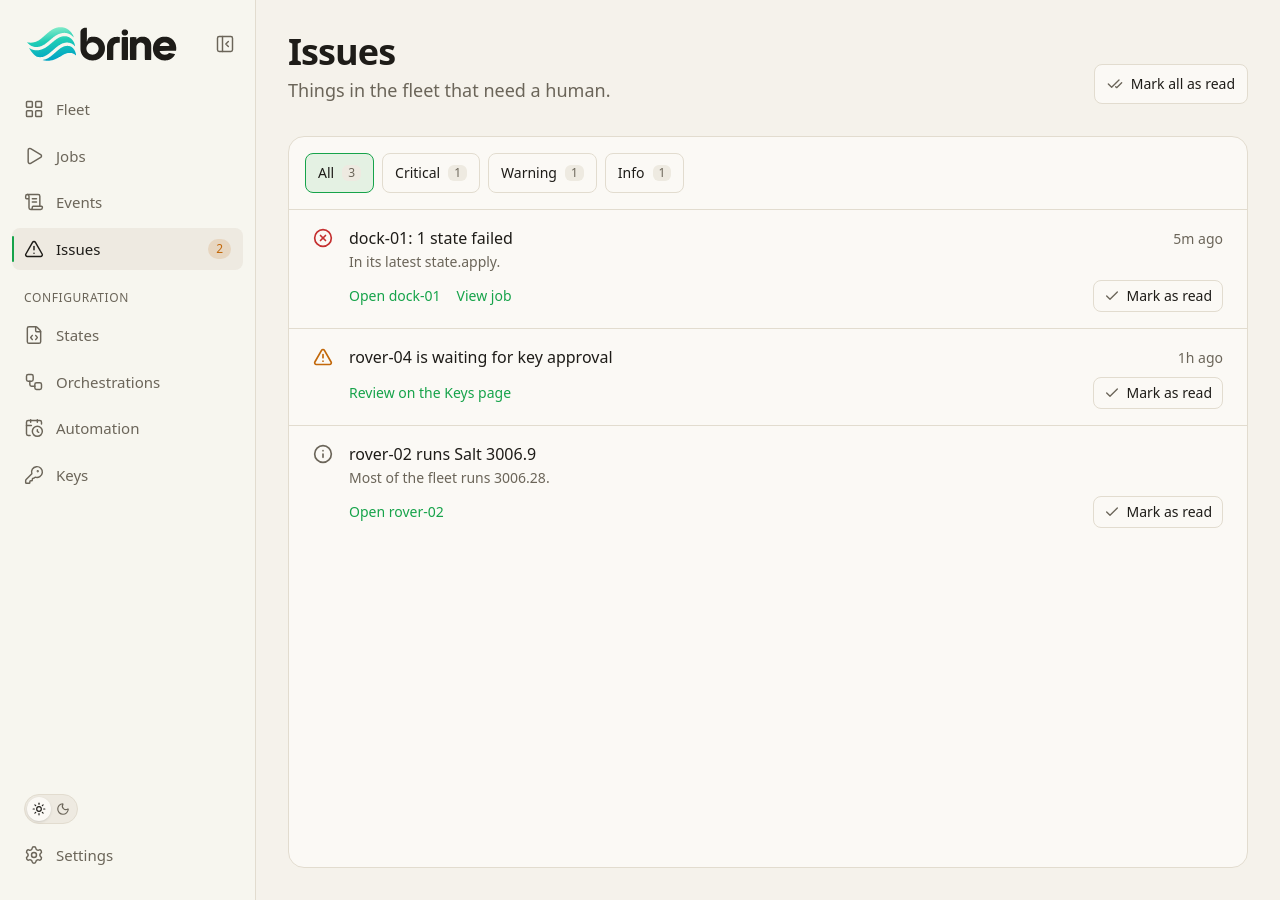
it: IssuesPage › marks an issue as read, as the page showed it, and hides it
The image size is (1280, 900).
Click the button "Mark as read" in the row of "Review on the Keys page". click: point(1158, 393)
box: [1094, 377, 1223, 409]
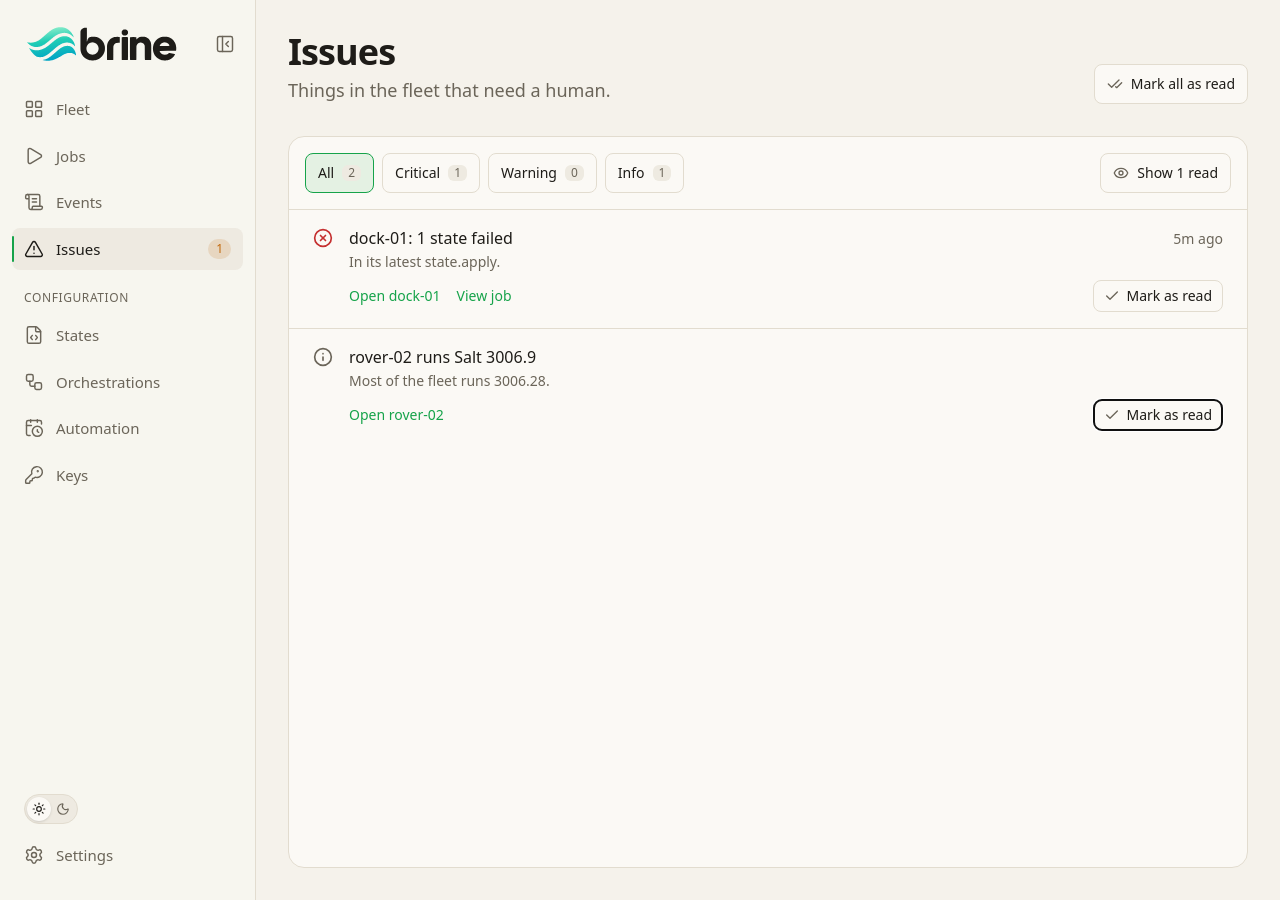
Expected: the number of list items is 2, [289, 209, 1247, 328]; [289, 328, 1247, 447]
Expected: the text "rover-04 is waiting for key approval" is gone
Expected: the tab "Warning 0" is shown, [488, 153, 597, 193]
